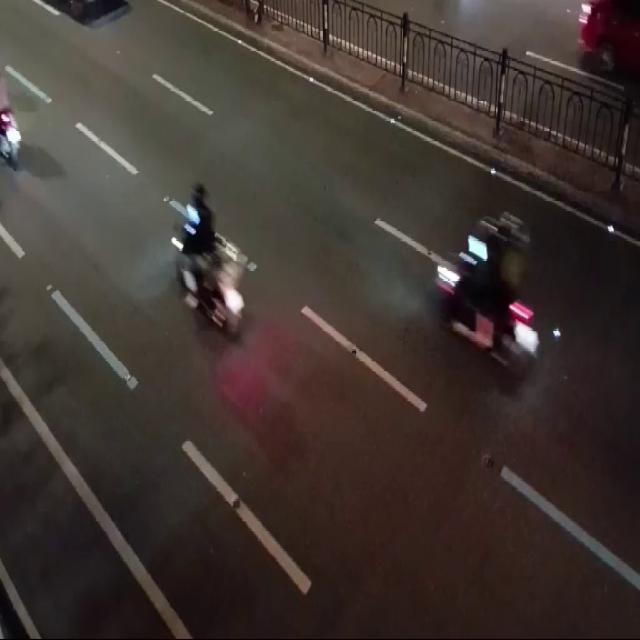motorcycle: (431, 203, 546, 387), (169, 189, 240, 352)
